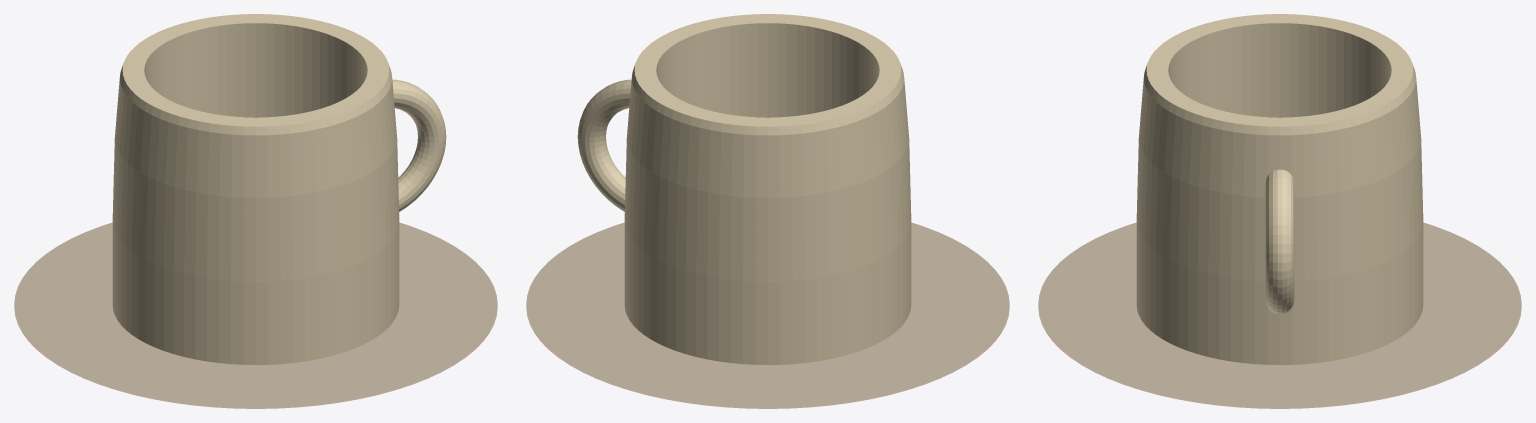
3 renders of one model, left to right at view 1: azimuth 30°, elevation 25°; view 2: azimuth 150°, elevation 25°; view 3: azimuth 270°, elevation 25°, orthographic.
Visible parts, largest first — view 1: group_4_mat_cup, group_3_mat_saucer, group_5_mat_cup, group_7_mat_cup, group_8_mat_cup, group_6_mat_cup, group_2_mat_saucer; view 2: group_4_mat_cup, group_3_mat_saucer, group_5_mat_cup, group_7_mat_cup, group_8_mat_cup, group_6_mat_cup, group_2_mat_saucer; view 3: group_4_mat_cup, group_3_mat_saucer, group_5_mat_cup, group_7_mat_cup, group_8_mat_cup, group_6_mat_cup, group_2_mat_saucer.
Boxes of the visible parts, left/top/right/bottom form: group_4_mat_cup: left=112, top=63, right=399, bottom=364; group_3_mat_saucer: left=14, top=222, right=497, bottom=406; group_5_mat_cup: left=144, top=23, right=367, bottom=117; group_7_mat_cup: left=122, top=14, right=389, bottom=126; group_8_mat_cup: left=392, top=79, right=446, bottom=211; group_6_mat_cup: left=112, top=299, right=399, bottom=364; group_2_mat_saucer: left=14, top=307, right=497, bottom=408; group_4_mat_cup: left=624, top=63, right=911, bottom=364; group_3_mat_saucer: left=526, top=222, right=1009, bottom=406; group_5_mat_cup: left=656, top=23, right=879, bottom=117; group_7_mat_cup: left=634, top=14, right=901, bottom=126; group_8_mat_cup: left=577, top=79, right=631, bottom=211; group_6_mat_cup: left=625, top=299, right=910, bottom=364; group_2_mat_saucer: left=526, top=307, right=1009, bottom=408; group_4_mat_cup: left=1136, top=63, right=1423, bottom=364; group_3_mat_saucer: left=1038, top=222, right=1521, bottom=406; group_5_mat_cup: left=1168, top=23, right=1391, bottom=117; group_7_mat_cup: left=1146, top=14, right=1413, bottom=126; group_8_mat_cup: left=1265, top=169, right=1294, bottom=313; group_6_mat_cup: left=1136, top=296, right=1423, bottom=364; group_2_mat_saucer: left=1038, top=307, right=1521, bottom=408.
Size of what is drawn, in the model's own units: 2.9 by 1.56 by 2.9.
